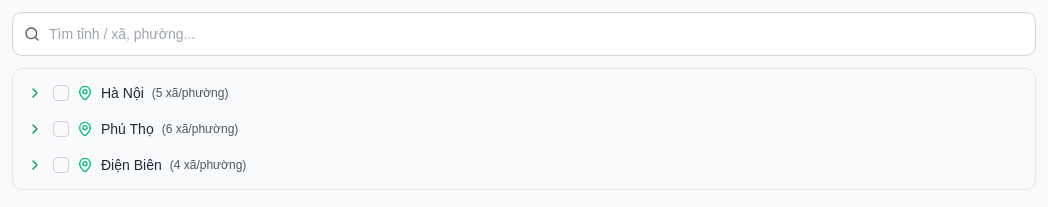
TC-E - AdministrativeUnitCascadeSelect › tìm kiếm lọc danh sách tỉnh/xã
Type "Sóc Sơn" into the field named "Tìm kiếm địa bàn" at x=524, y=34, box [12,12,1036,56]
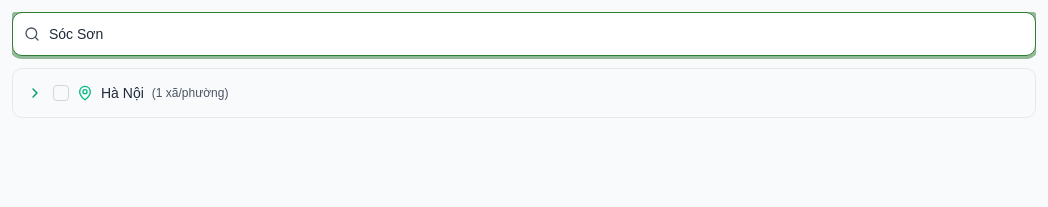
expect the button "Hà Nội (1 xã/phường)" is shown: met, box [77,83,1023,103]
expect the button "Phú Thọ" is gone: met
Click the button named "Mở Hà Nội" at x=35, y=93, box [25,83,45,103]
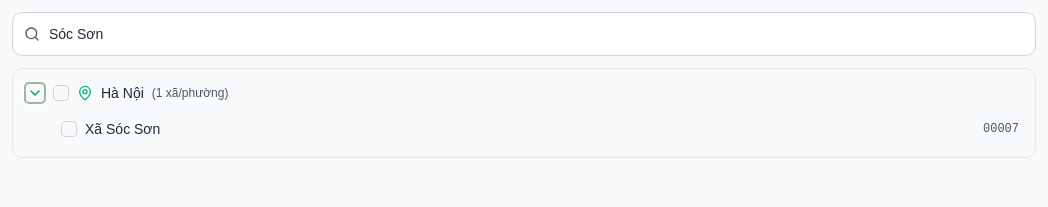
expect the checkbox named "Xã Sóc Sơn" is shown: met, box [61,121,77,137]
